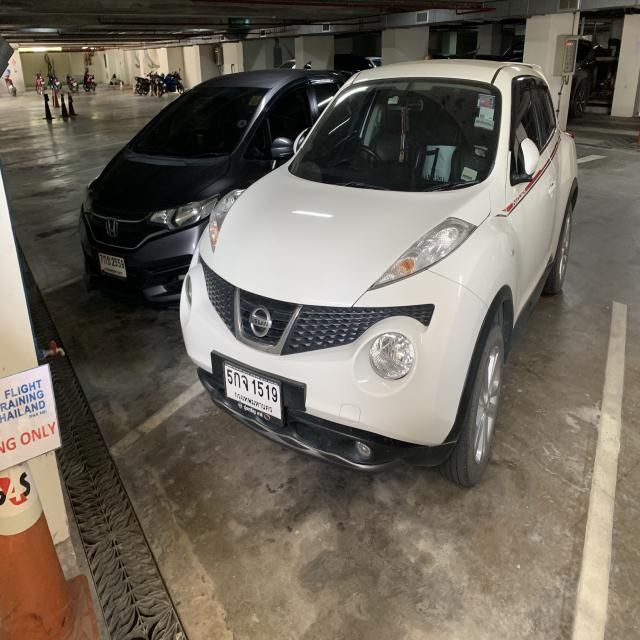license_plate: (222, 358, 284, 428), (97, 250, 129, 279)
